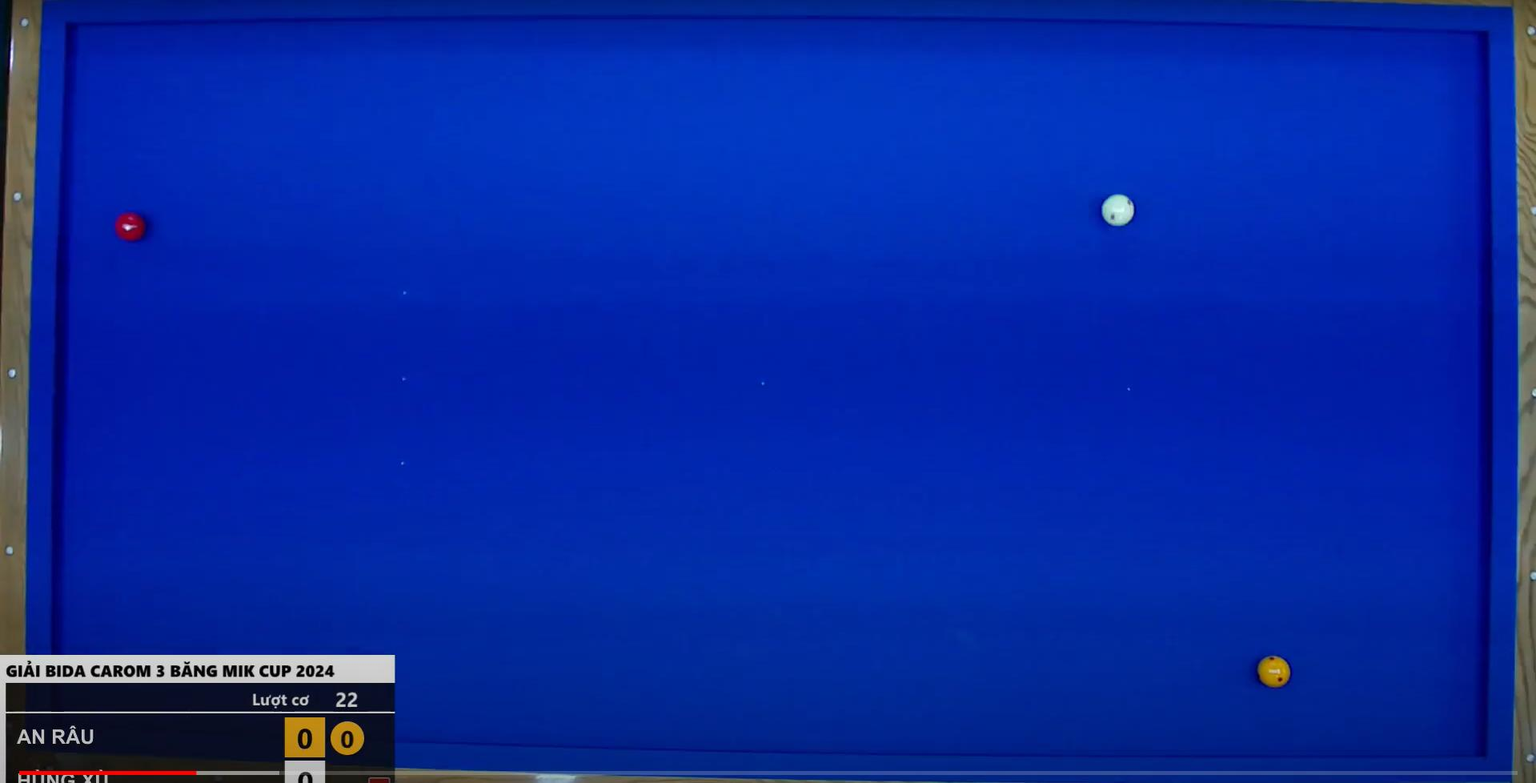red ball: (113, 205, 152, 256)
white ball: (1091, 182, 1144, 236)
yellow ball: (1253, 646, 1298, 695)
